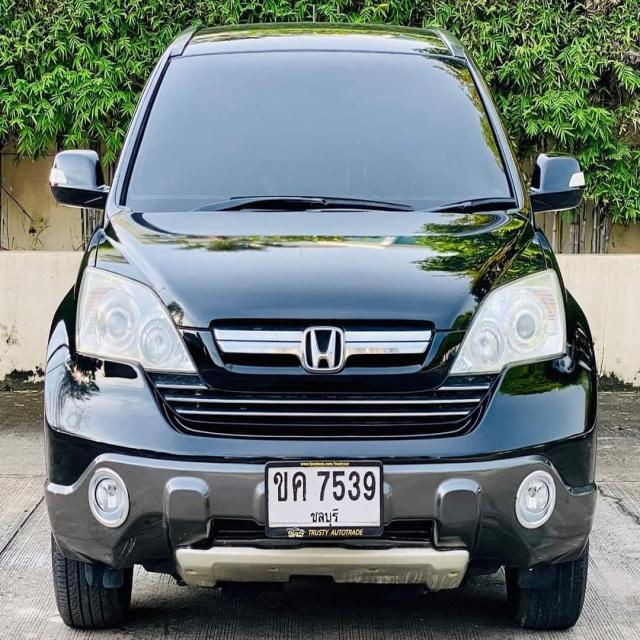license_plate: (264, 462, 386, 540)
